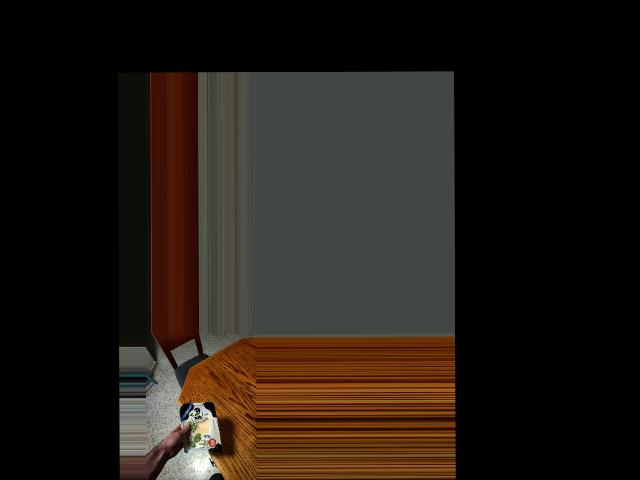cheese: (177, 394, 221, 458)
